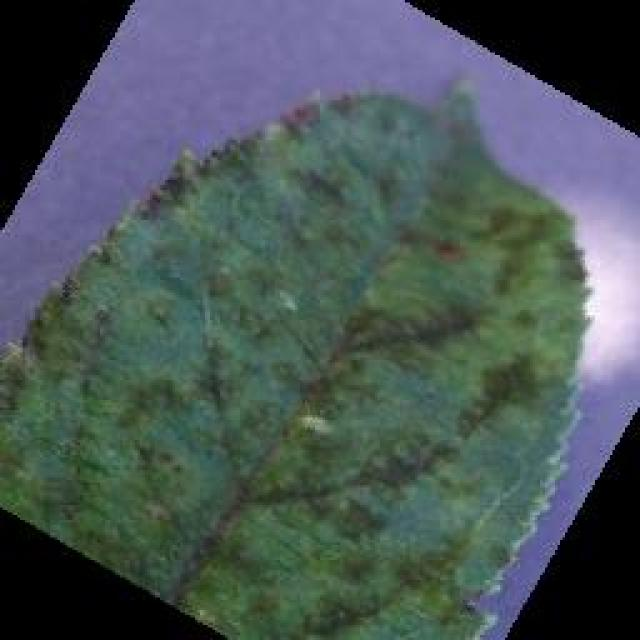apple scab disease: (0, 75, 595, 637)
